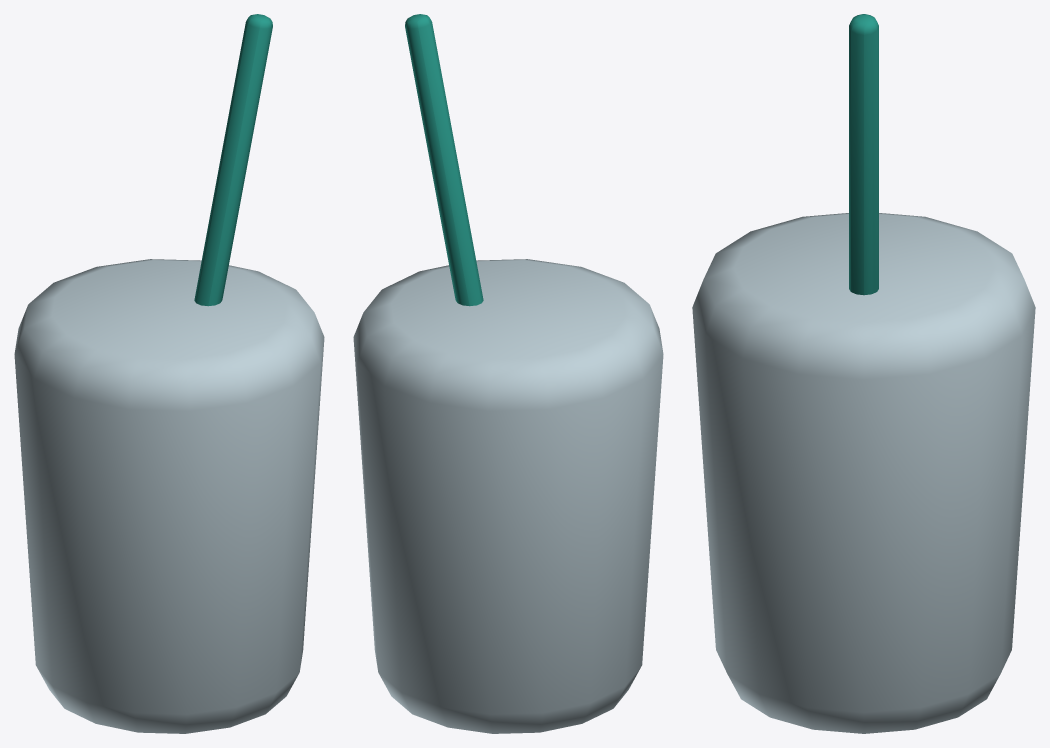
File: food_iced.glb
3 renders of one model, left to right at view 1: azimuth 30°, elevation 25°; view 2: azimuth 150°, elevation 25°; view 3: azimuth 270°, elevation 25°, orthographic. The views are drawn at different scales.
Visible parts, largest first — view 1: Glass_food_iced, food_iced; view 2: Glass_food_iced, food_iced; view 3: Glass_food_iced, food_iced.
Part boxes in pixels (box(x1,y1,x2,y2)): Glass_food_iced: box(14, 259, 324, 733); food_iced: box(194, 14, 272, 306); Glass_food_iced: box(353, 259, 663, 733); food_iced: box(405, 14, 483, 306); Glass_food_iced: box(692, 213, 1035, 733); food_iced: box(849, 14, 878, 295).
Size of the model in its own units: 0.2363 by 0.5469 by 0.2363.
